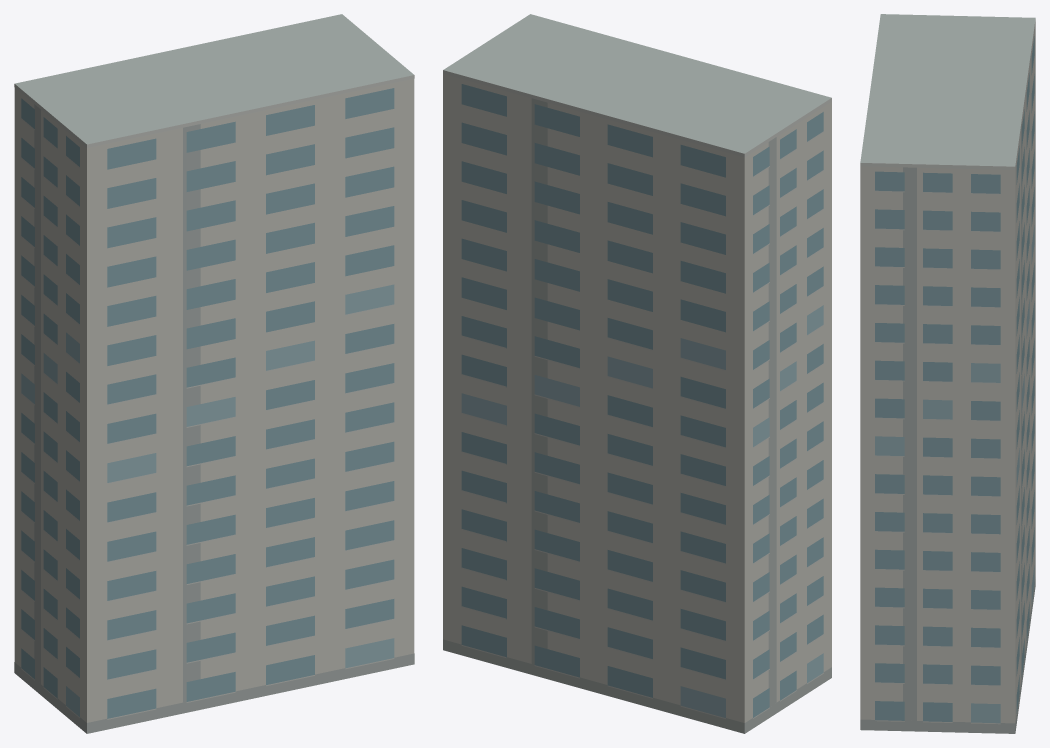
Rendered from residential-103bc6ec-8a39-43f6-a8f0-a1cd63676336.glb.
3 views of the same model, side by side, from view 1: azimuth 30°, elevation 25°; view 2: azimuth 150°, elevation 25°; view 3: azimuth 270°, elevation 25° (orthographic). The views are drawn at different scales.
Visible parts, largest first — view 1: residential-103bc6ec-8a39-43f6-a8f0-a1cd63676336.tmp; view 2: residential-103bc6ec-8a39-43f6-a8f0-a1cd63676336.tmp; view 3: residential-103bc6ec-8a39-43f6-a8f0-a1cd63676336.tmp.
Part boxes in pixels (x1,y1,x2,y2): residential-103bc6ec-8a39-43f6-a8f0-a1cd63676336.tmp: (14, 14, 414, 733); residential-103bc6ec-8a39-43f6-a8f0-a1cd63676336.tmp: (443, 14, 831, 733); residential-103bc6ec-8a39-43f6-a8f0-a1cd63676336.tmp: (860, 14, 1035, 733).
Bounding box in the file's own units: 23.1 × 40 × 11.22.
